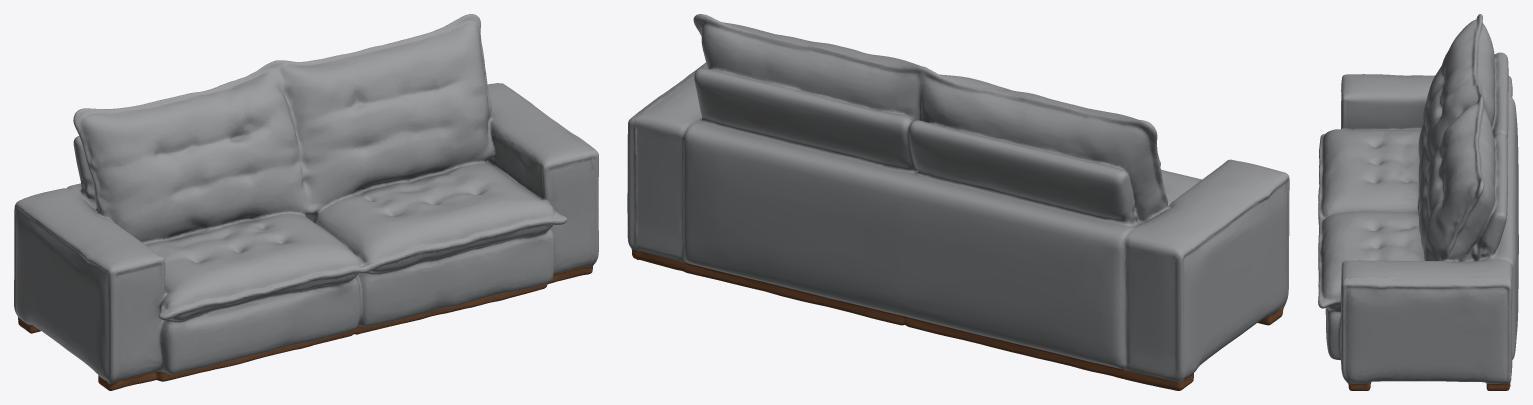
File: valencia-250-foto.glb
3 views of the same model, side by side, from view 1: azimuth 30°, elevation 25°; view 2: azimuth 150°, elevation 25°; view 3: azimuth 270°, elevation 25° (orthographic). The views are drawn at different scales.
Visible parts, largest first — view 1: Sofa; view 2: Sofa; view 3: Sofa.
Boxes of the visible parts, bbox=[...] form: Sofa: bbox=[14, 14, 598, 390]; Sofa: bbox=[627, 14, 1289, 390]; Sofa: bbox=[1318, 14, 1518, 390].
Bounding box in the file's own units: 2.5 × 1.05 × 1.
